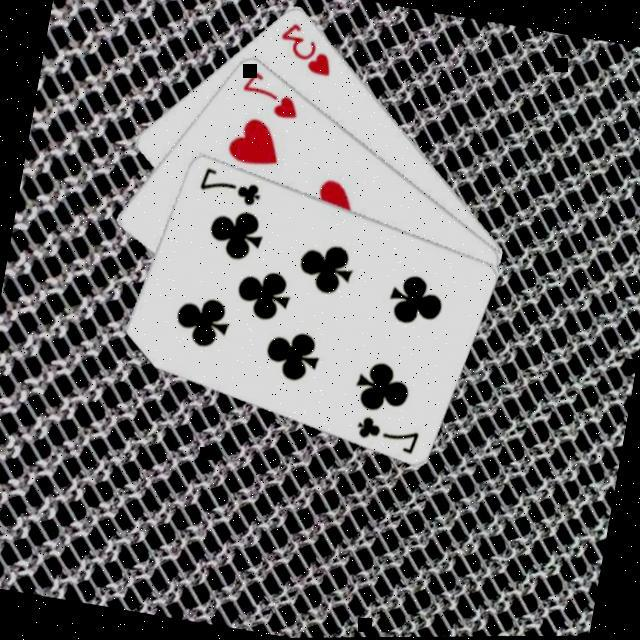3H: (271, 18, 341, 82)
7C: (194, 164, 267, 212), (351, 412, 424, 460)
7H: (235, 66, 308, 126)
